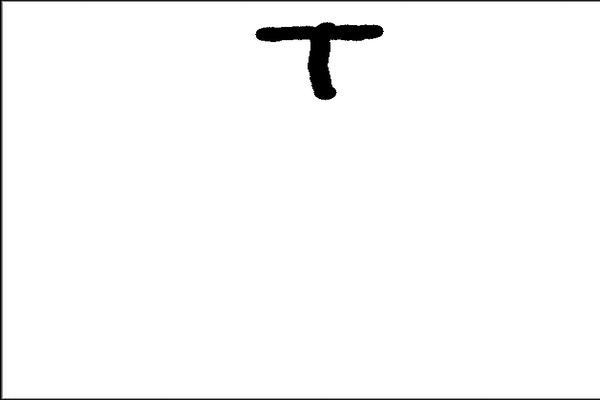T: (255, 18, 386, 103)
